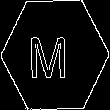M_N: (35, 30, 75, 80)
